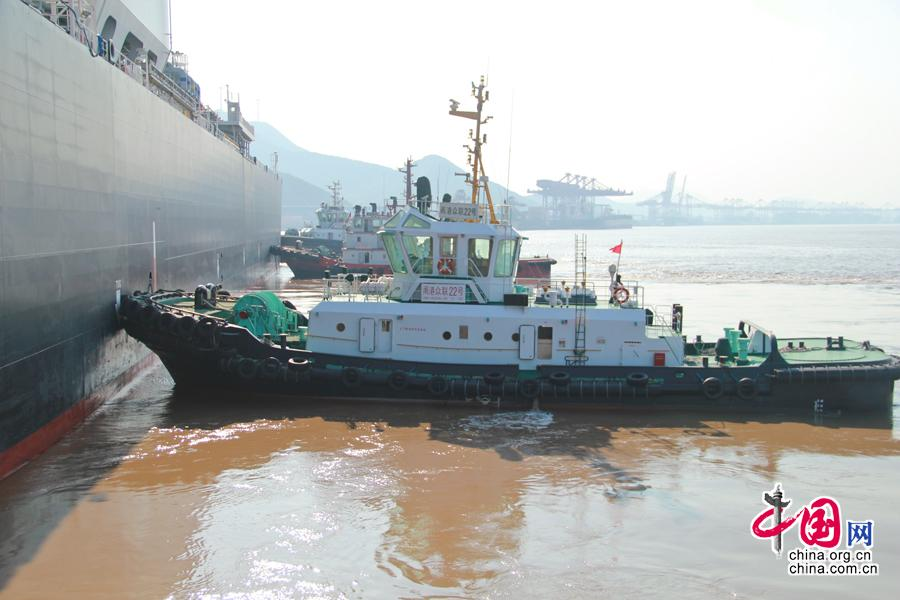otherboat: (111, 179, 897, 402), (242, 192, 567, 276), (283, 179, 380, 241)
